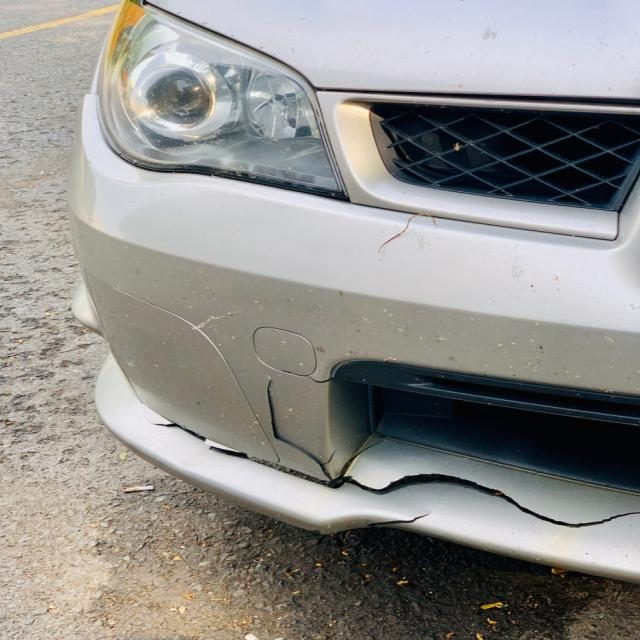crack: (266, 374, 640, 528), (367, 510, 434, 526), (147, 420, 180, 427), (308, 376, 332, 383)
